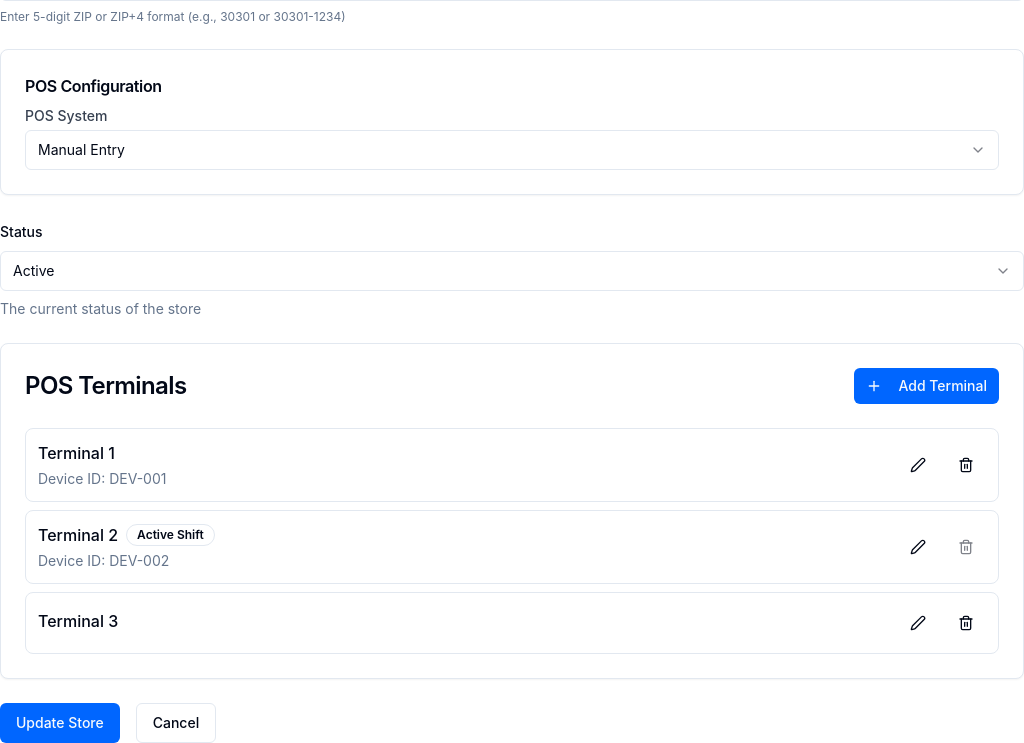
Test: Terminal Management Component › Update Terminal › [P0] Should open edit terminal dialog when edit button is clicked
This screenshot has width=1024, height=743.
(page scrolled)
Click the button named "Edit Terminal 1": (918, 465) [898,447,938,483]
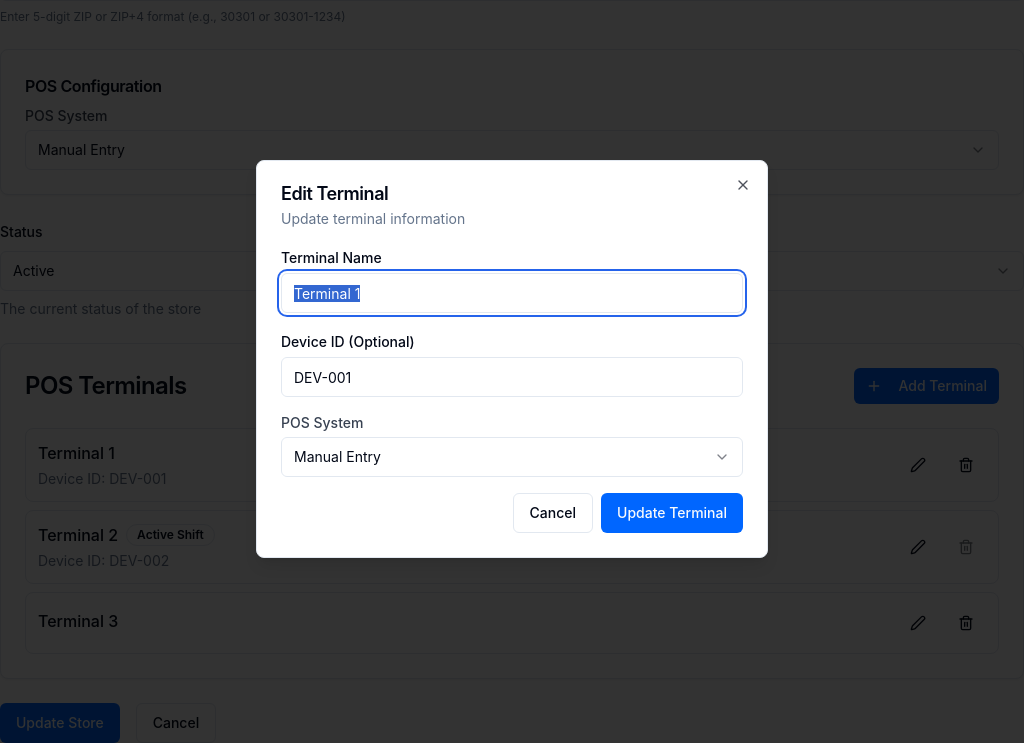
Now the heading "Edit Terminal" is shown, box [281,183,388,204]
Now the text "Update terminal information" is shown, box [281,210,465,227]
